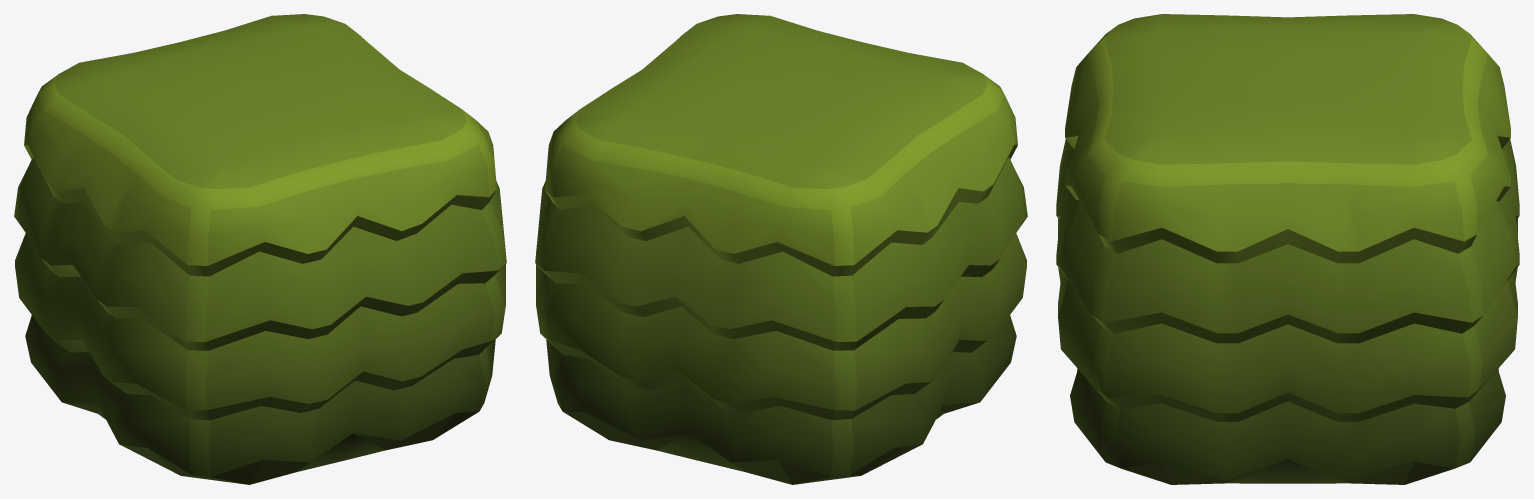
The model's file is bush_square_big_plain_LOD_group.fbx.
The picture shows the model from 3 angles, left to right: view 1: azimuth 30°, elevation 25°; view 2: azimuth 150°, elevation 25°; view 3: azimuth 270°, elevation 25°; orthographic projection. The views are drawn at different scales.
Parts seen in each view (by area): view 1: bush_square_big_plain_LOD0; view 2: bush_square_big_plain_LOD0; view 3: bush_square_big_plain_LOD0.
Boxes of the visible parts, x1=… form: bush_square_big_plain_LOD0: x1=14, y1=14, x2=506, y2=484; bush_square_big_plain_LOD0: x1=535, y1=14, x2=1027, y2=484; bush_square_big_plain_LOD0: x1=1056, y1=14, x2=1519, y2=484.
Size of what is drawn, in the model's own units: 259 by 212 by 258.
Materials: 1 (1 with a texture image).
